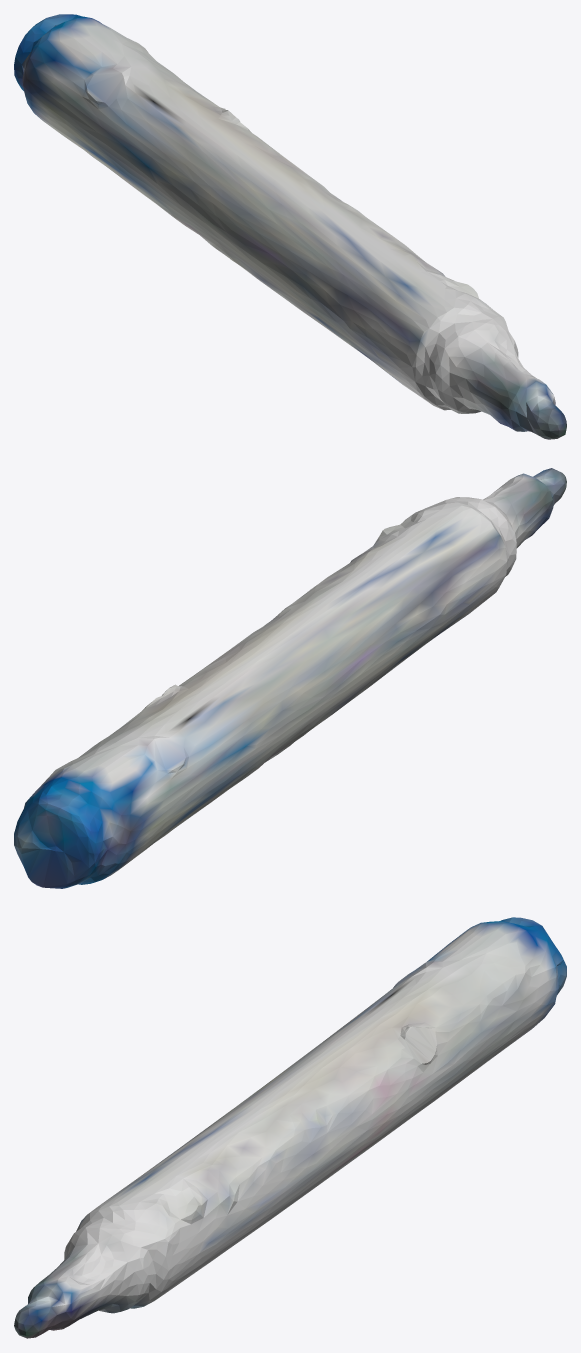
3 renders of one model, top to bottom at view 1: azimuth 30°, elevation 25°; view 2: azimuth 150°, elevation 25°; view 3: azimuth 330°, elevation 25°, orthographic.
Visible parts, largest first — view 1: scan.ply; view 2: scan.ply; view 3: scan.ply.
Boxes of the visible parts, x1=… form: scan.ply: x1=14, y1=14, x2=566, y2=439; scan.ply: x1=14, y1=468, x2=566, y2=888; scan.ply: x1=14, y1=917, x2=566, y2=1338.
Bounding box in the file's own units: 0.0163 × 0.0169 × 0.1405.
